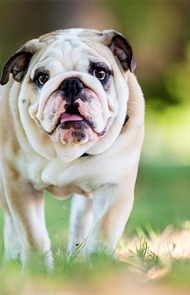dog: (1, 27, 148, 269)
